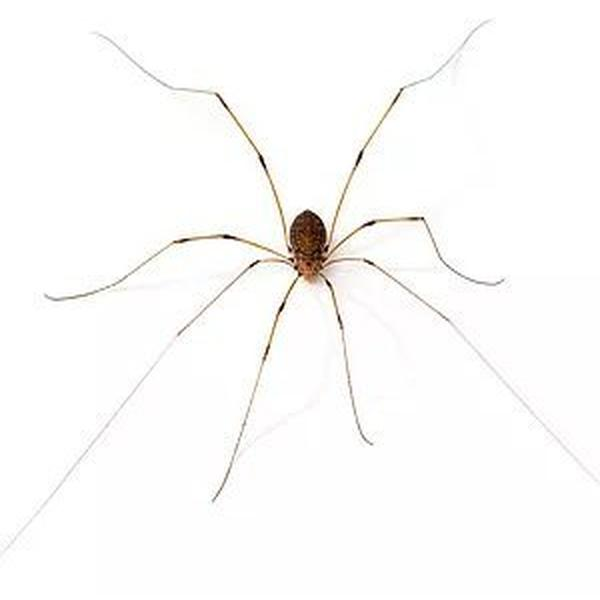Daddy Long Legs Spider: (50, 31, 551, 548)
